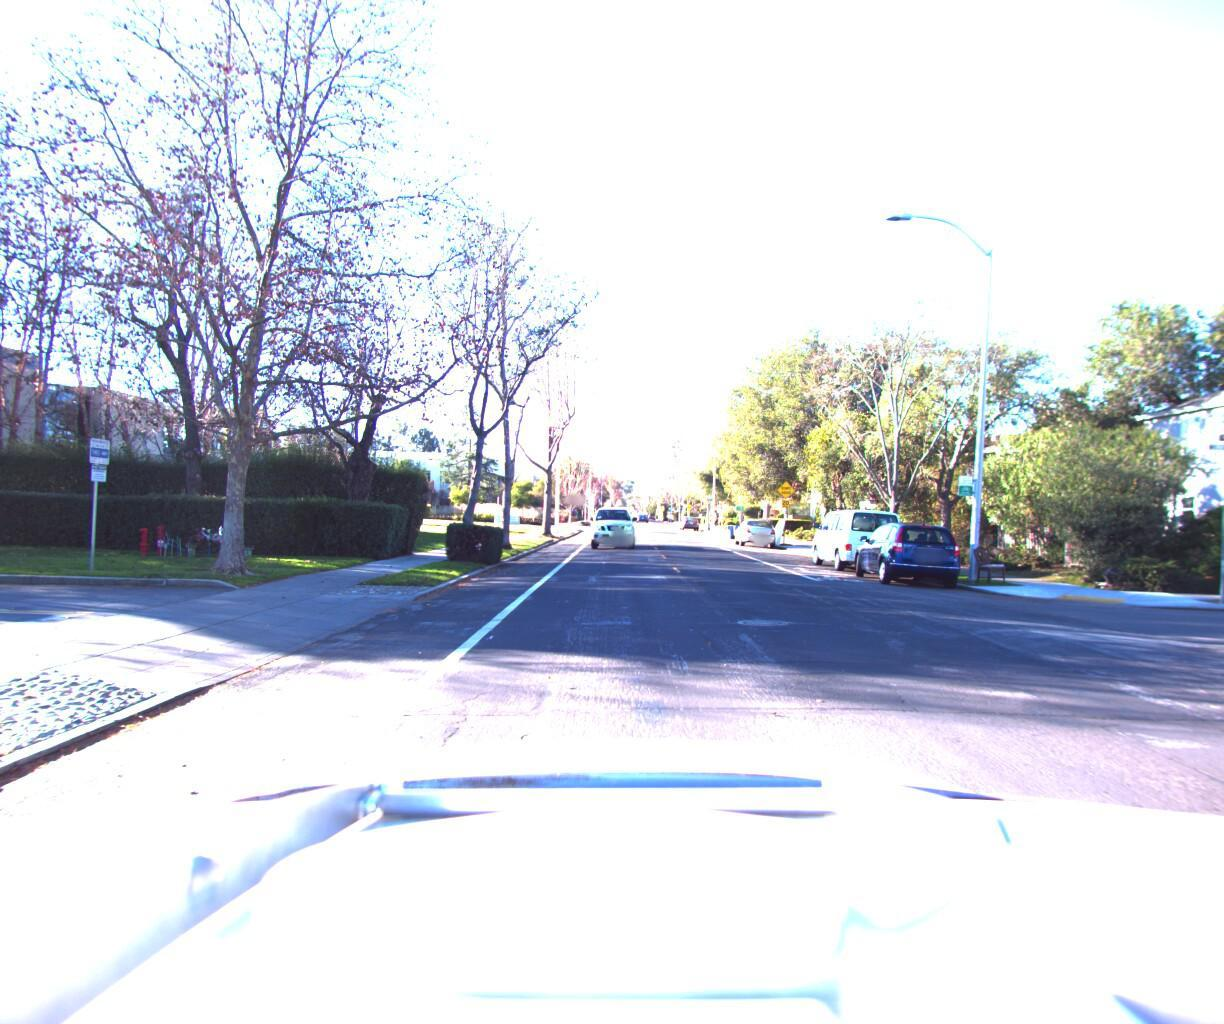car: (845, 523, 970, 600), (806, 511, 910, 583), (586, 507, 635, 555), (732, 526, 778, 556), (677, 523, 698, 538)
